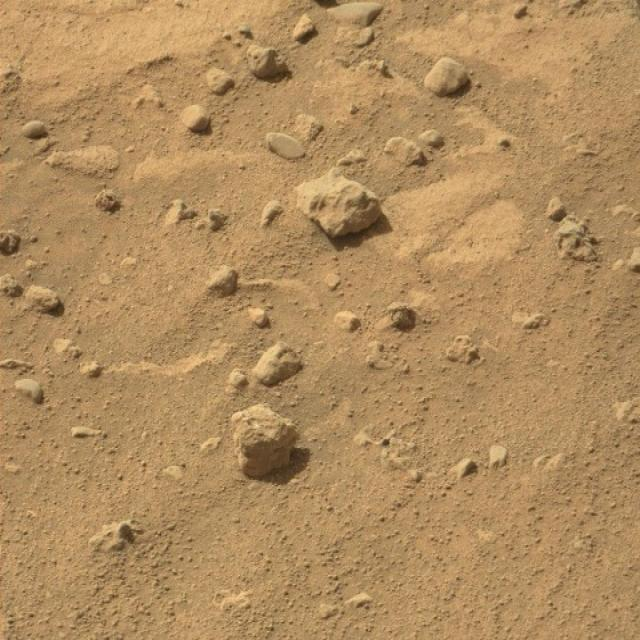mars-rocks: (296, 168, 382, 238), (232, 405, 298, 478), (425, 57, 470, 96)
